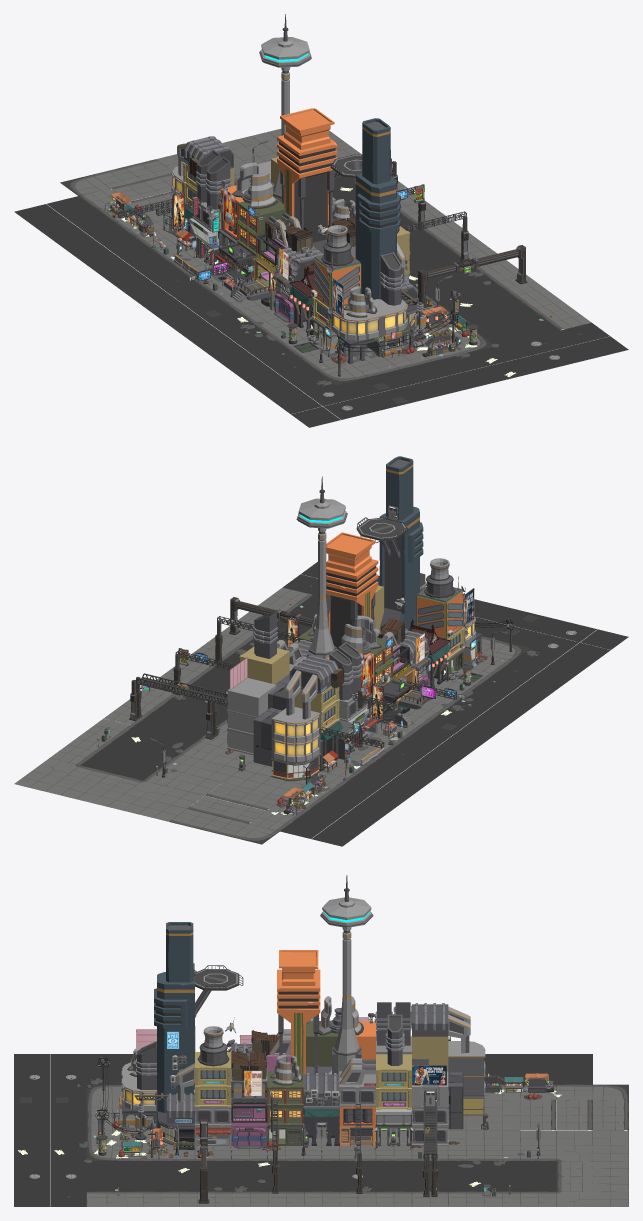
The model's file is scifi_11mb-v1.glb.
The picture shows the model from 3 angles, top to bottom: view 1: azimuth 30°, elevation 25°; view 2: azimuth 150°, elevation 25°; view 3: azimuth 270°, elevation 25°; orthographic projection. The views are drawn at different scales.
Parts seen in each view (by area): view 1: SM_Bld_Large_03, SM_Bld_Large_01, SM_Bld_Large_06, SM_Bld_Section_Window_04, SM_Bld_Power_01, SM_Bld_Section_Corner_03, SM_Bld_Large_Part_07__2_, SM_Bld_Power_03, SM_Bld_Section_Window_02__1_, SM_Bld_Large_Part_07, SM_Bld_Section_Corner_03__4_, SM_Bld_Large_Part_01__1_ (+56 smaller); view 2: SM_Bld_Large_01, SM_Bld_Large_03, SM_Bld_Large_06, SM_Bld_Section_Window_04, SM_Bld_Section_Corner_03__1_, SM_Bld_Section_Wall_01, SM_Bld_Section_Window_01__1_, SM_Env_Greeble_Cube_02__19_, SM_Bld_Power_01, SM_Bld_Large_Part_01__1_, SM_Bld_Section_Corner_03_1, SM_Bld_Large_Part_07__3_ (+68 smaller); view 3: SM_Bld_Large_01, SM_Bld_Large_03, SM_Bld_Large_06, SM_Bld_Large_Part_01__1_, SM_Bld_Section_Corner_03__1_, SM_Bld_Section_Door_03__3_, SM_Bld_Section_Window_01__1_, SM_Bld_Section_Window_02__2_, SM_Bld_Section_Wall_02_1, SM_Bld_Large_Part_01__5_, SM_Bld_LandingPad_01__1_, SM_Bld_Section_Window_01__8_ (+118 smaller).
Boxes of the visible parts, x1,y1,x2,y2 form: SM_Bld_Large_03: [277, 108, 337, 253]; SM_Bld_Large_01: [355, 118, 400, 299]; SM_Bld_Large_06: [259, 14, 311, 202]; SM_Bld_Section_Window_04: [313, 255, 361, 307]; SM_Bld_Power_01: [232, 162, 278, 208]; SM_Bld_Section_Corner_03: [331, 307, 381, 340]; SM_Bld_Large_Part_07__2_: [380, 252, 402, 305]; SM_Bld_Power_03: [321, 225, 353, 266]; SM_Bld_Section_Window_02__1_: [237, 196, 285, 236]; SM_Bld_Large_Part_07: [205, 156, 231, 209]; SM_Bld_Section_Corner_03__4_: [365, 299, 407, 335]; SM_Bld_Large_Part_01__1_: [184, 136, 233, 168]; SM_Bld_Large_01: [379, 456, 423, 631]; SM_Bld_Large_03: [326, 532, 378, 649]; SM_Bld_Large_06: [296, 476, 347, 658]; SM_Bld_Section_Window_04: [416, 587, 462, 639]; SM_Bld_Section_Corner_03__1_: [271, 707, 320, 742]; SM_Bld_Section_Wall_01: [227, 678, 276, 716]; SM_Bld_Section_Window_01__1_: [239, 646, 289, 683]; SM_Env_Greeble_Cube_02__19_: [253, 707, 282, 766]; SM_Bld_Power_01: [341, 615, 381, 660]; SM_Bld_Large_Part_01__1_: [289, 655, 338, 693]; SM_Bld_Section_Corner_03_1: [271, 733, 320, 762]; SM_Bld_Large_Part_07__3_: [253, 611, 277, 658]; SM_Bld_Large_01: [154, 922, 194, 1128]; SM_Bld_Large_03: [277, 950, 320, 1074]; SM_Bld_Large_06: [320, 875, 373, 1074]; SM_Bld_Large_Part_01__1_: [412, 1003, 448, 1036]; SM_Bld_Section_Corner_03__1_: [448, 1041, 485, 1075]; SM_Bld_Section_Door_03__3_: [303, 1106, 340, 1145]; SM_Bld_Section_Window_01__1_: [376, 1054, 411, 1089]; SM_Bld_Section_Window_02__2_: [267, 1071, 303, 1107]; SM_Bld_Section_Wall_02_1: [339, 1071, 375, 1106]; SM_Bld_Large_Part_01__5_: [303, 1073, 339, 1106]; SM_Bld_LandingPad_01__1_: [195, 965, 243, 990]; SM_Bld_Section_Window_01__8_: [195, 1052, 231, 1087].
Size of the model in its own units: 33.04 by 26.02 by 56.13.
32 materials, 24 textured.
